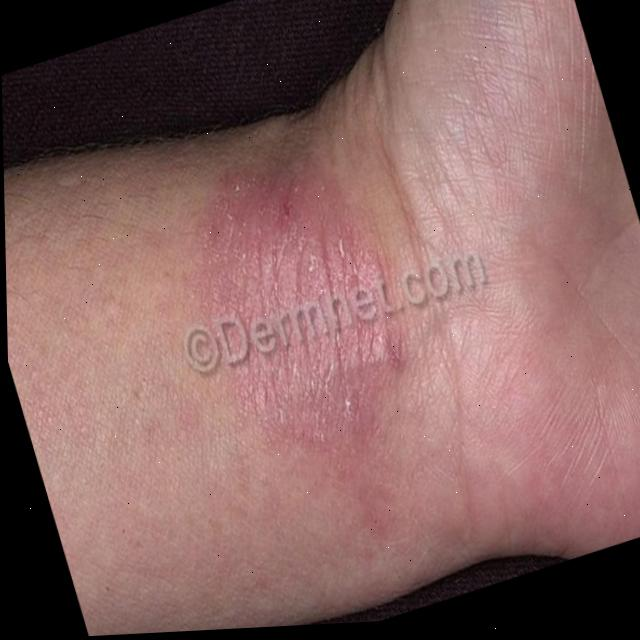Eczema: (187, 128, 422, 474)
